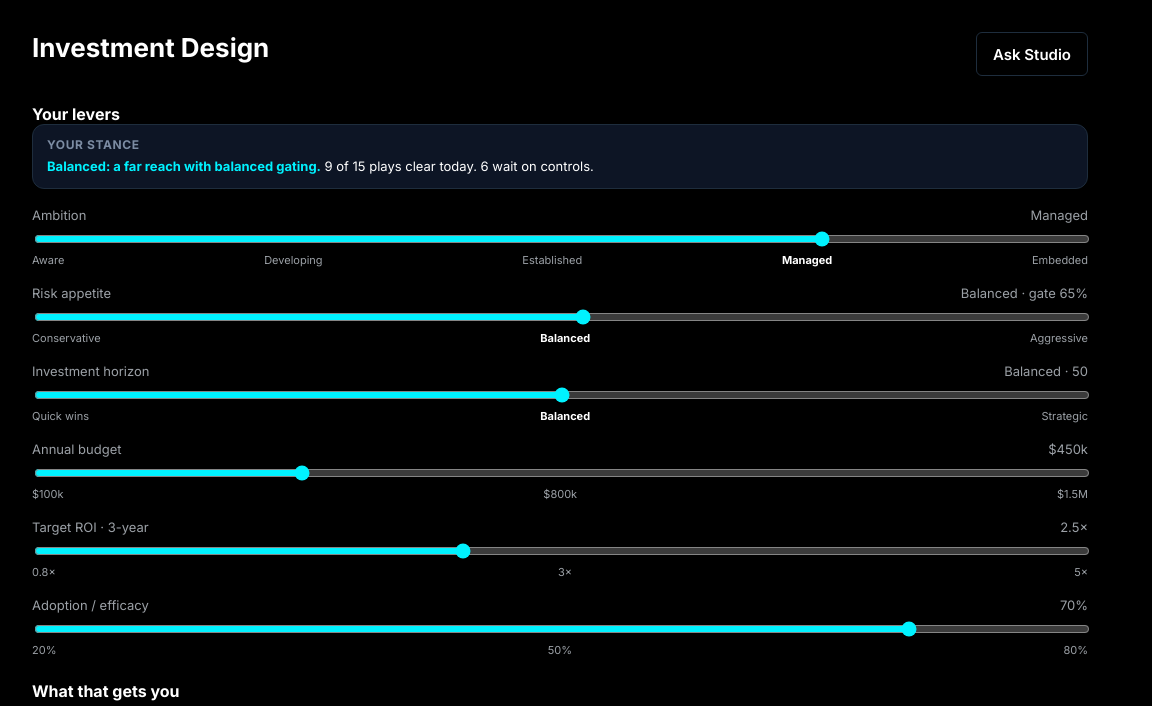
Scenario: lever changes recompute the stance banner live (recompute base 1256-1301; readLevers 1229-1233) › moving Risk appetite past 66 with far reach flips the lead to the aggressive-tension stance (base 1222)
Set the slider labelled "Risk appetite" to "80" at (874, 317), box [34,309,1090,325]
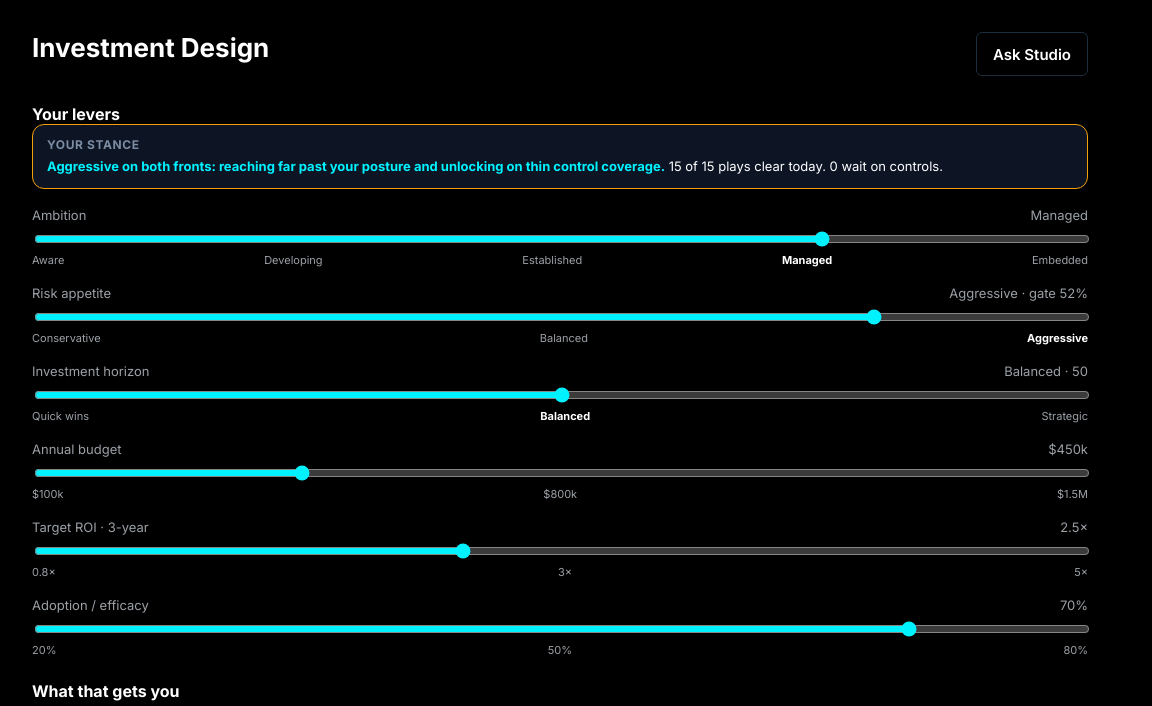
Now the text "Aggressive on both fronts: reaching far past your posture and unlocking on thin control coverage." is shown, box [47,158,665,174]
Now the text "15 of 15 plays clear today. 0 wait on controls." is shown, box [669,158,943,174]
